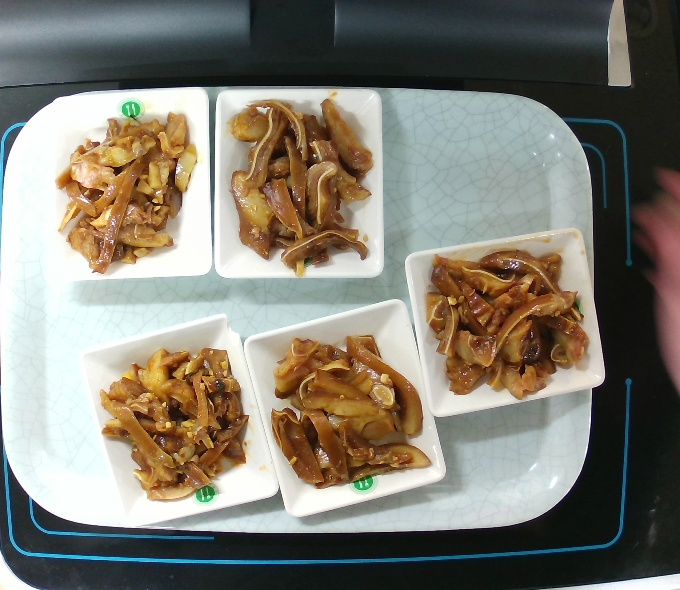wcq-ZhuErDuo: (220, 85, 380, 282), (257, 324, 431, 496), (52, 94, 209, 282), (94, 331, 254, 503), (421, 242, 594, 401)
